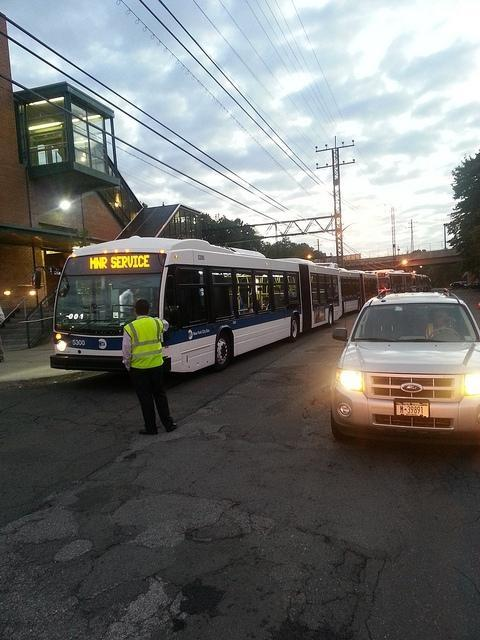bus: (51, 238, 370, 368), (391, 273, 413, 293), (377, 272, 394, 292)
car: (332, 286, 480, 442), (450, 282, 467, 290)
